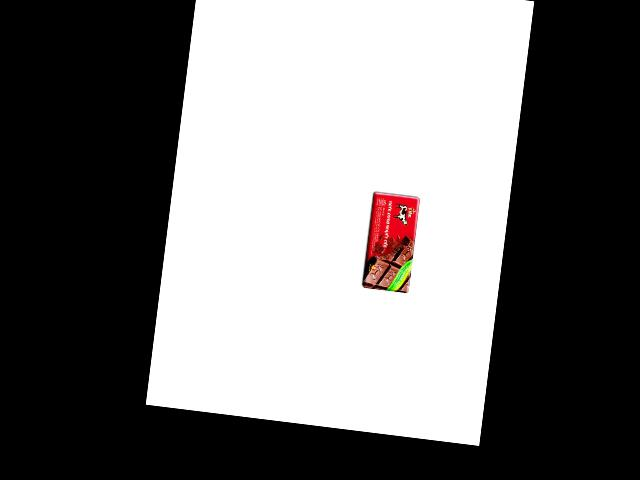chocolate: (357, 187, 422, 293)
